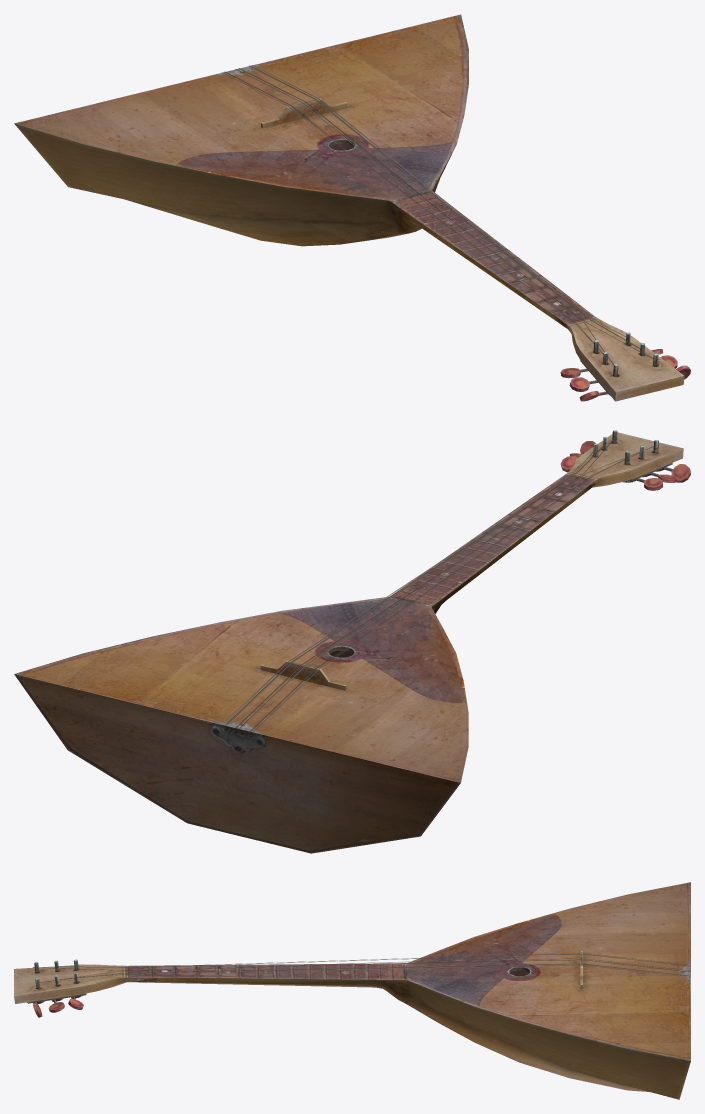
The model's file is balalaika.glb.
3 renders of one model, top to bottom at view 1: azimuth 30°, elevation 25°; view 2: azimuth 150°, elevation 25°; view 3: azimuth 270°, elevation 25°, orthographic. The views are drawn at different scales.
Parts seen in each view (by area): view 1: balalaika; view 2: balalaika; view 3: balalaika.
Boxes of the visible parts, <box> form: balalaika: <box>14,14,690,401</box>; balalaika: <box>14,430,690,853</box>; balalaika: <box>14,882,690,1099</box>.
Bounding box in the file's own units: 0.4381 × 0.1252 × 0.7.
1 material, 1 textured.
